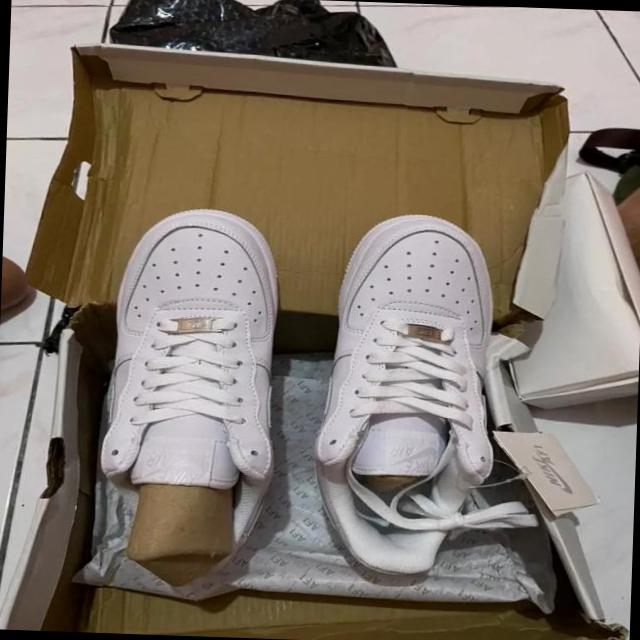nike_fake_airforce: (312, 208, 506, 580), (94, 204, 288, 568)
